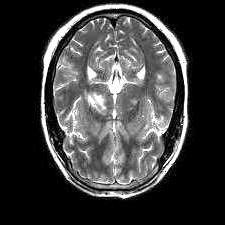Normal_Brain: (27, 11, 225, 225)
